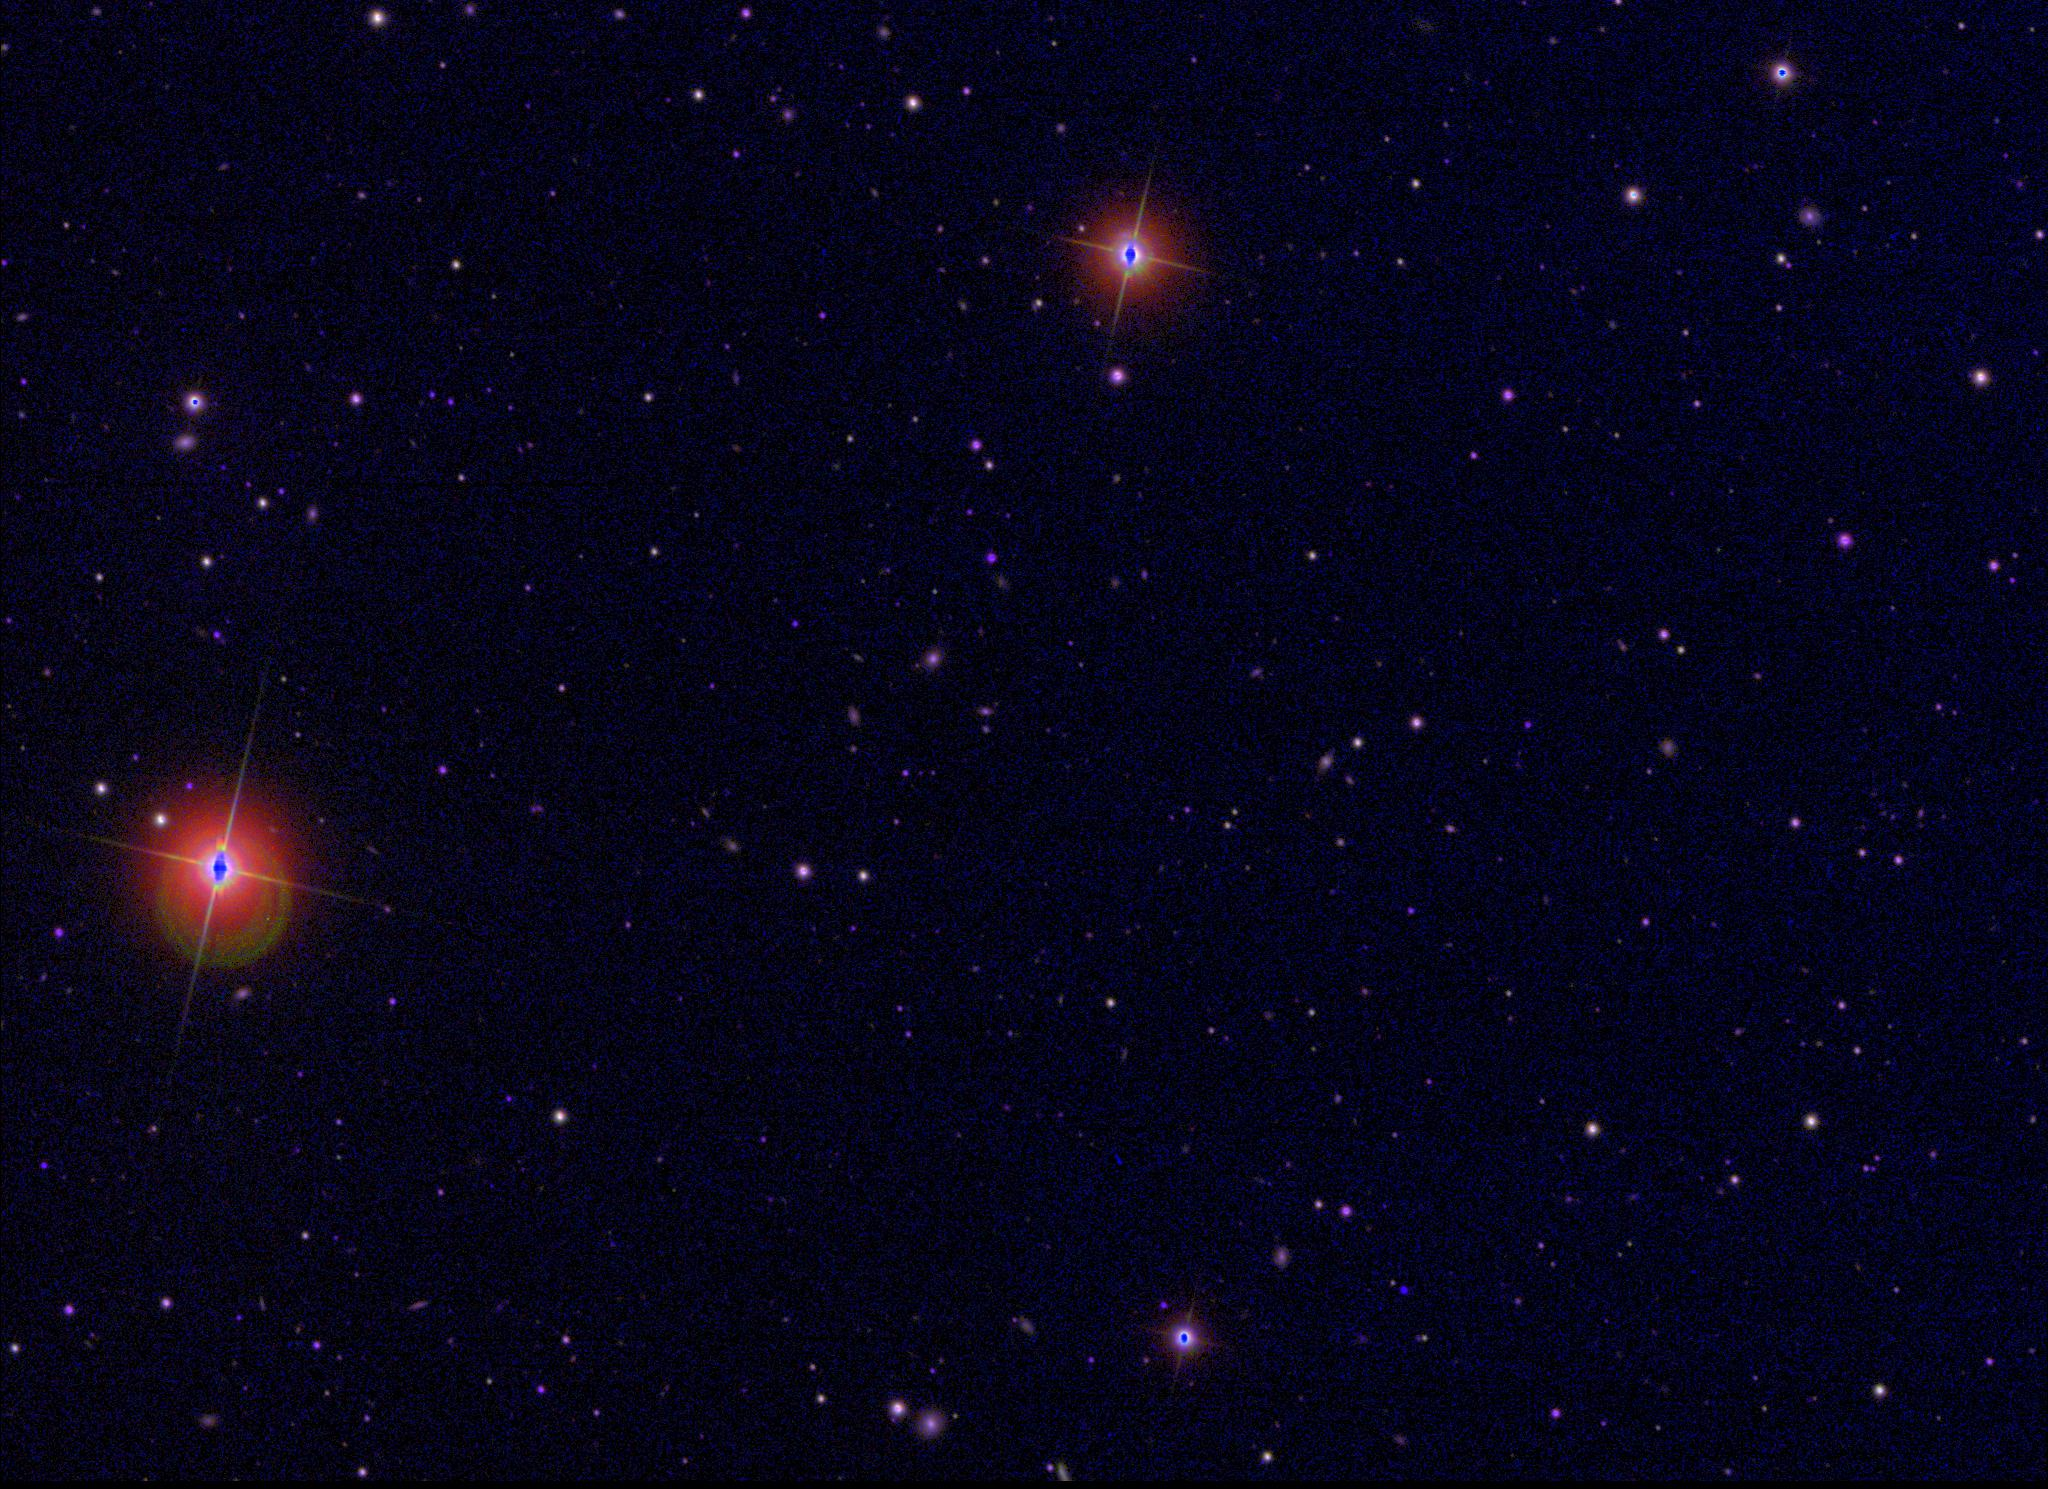L: (1396, 1285, 1410, 1300)
